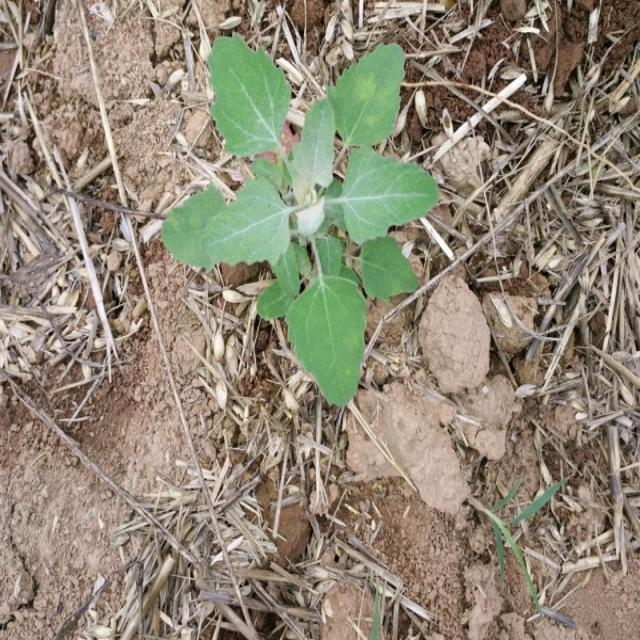ca: (208, 35, 440, 409)
